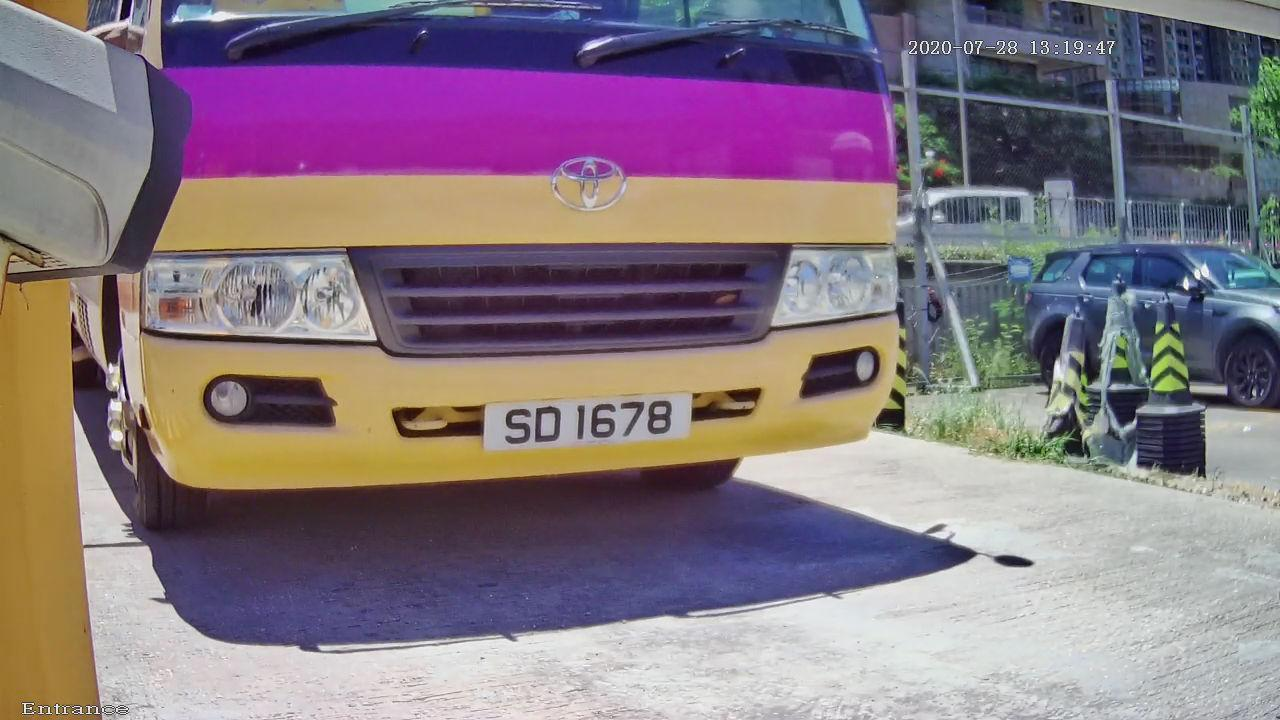truck_large: (55, 1, 971, 588)
